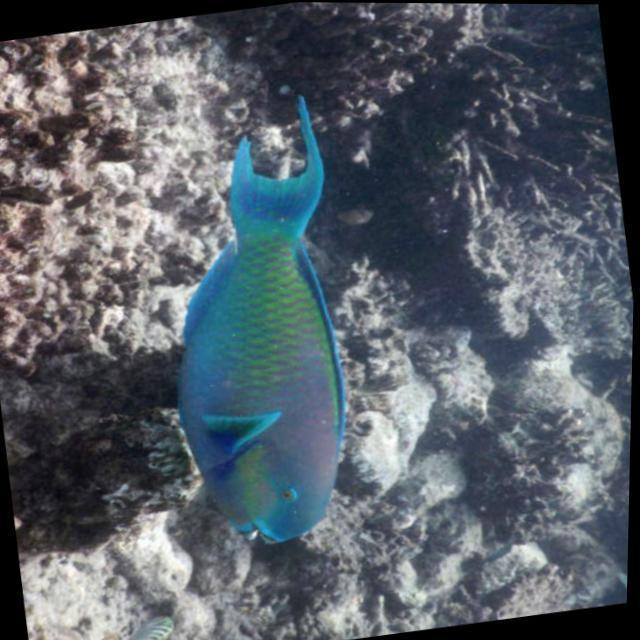Dead Coral: (255, 2, 627, 256)
